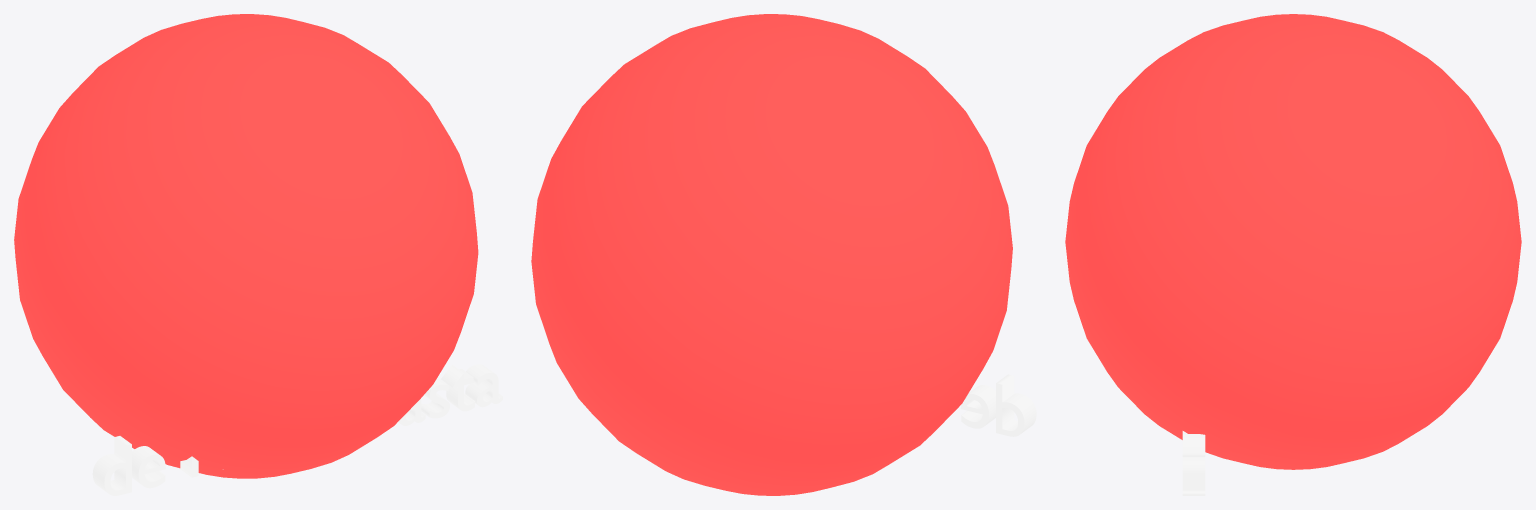
Rendered from pastilha-de-freio-gasta.glb.
The picture shows the model from 3 angles, left to right: view 1: azimuth 30°, elevation 25°; view 2: azimuth 150°, elevation 25°; view 3: azimuth 270°, elevation 25°; orthographic projection. The views are drawn at different scales.
Visible parts, largest first — view 1: Sphere.025, Text.026; view 2: Sphere.025, Text.026; view 3: Sphere.025, Text.026.
Boxes of the visible parts, <box> form: Sphere.025: <box>14,14,478,478</box>; Text.026: <box>92,364,502,495</box>; Sphere.025: <box>531,14,1012,495</box>; Text.026: <box>960,374,1036,436</box>; Sphere.025: <box>1065,14,1521,469</box>; Text.026: <box>1182,431,1205,495</box>.
Bounding box in the file's own units: 5.15 × 5.15 × 5.15.
